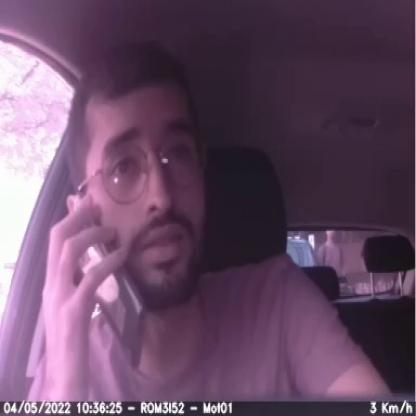phone: (66, 211, 152, 373)
